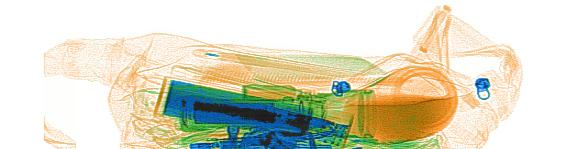battery: (193, 99, 276, 128)
